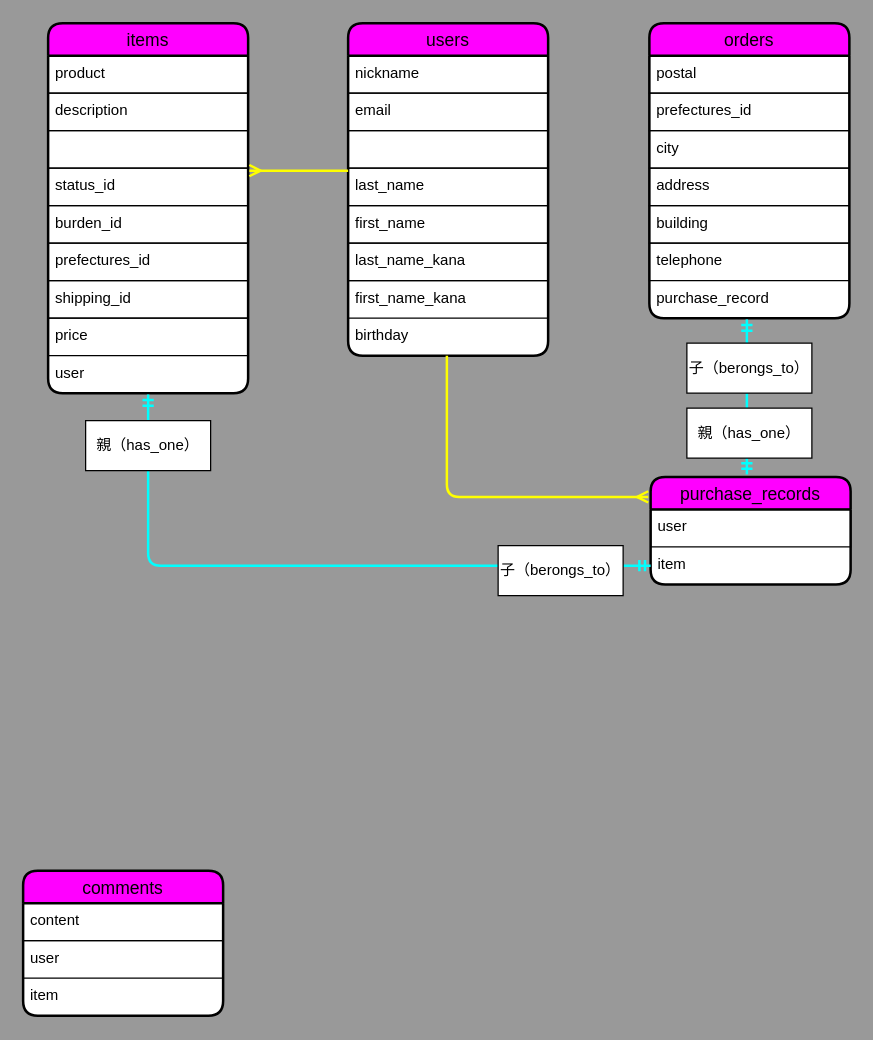
Image size: 873x1040. Some labels were removed from this diagram. Each missing label, with the centre of its shape:
category_id: point (147, 148)
encrypted_password: point (447, 148)
